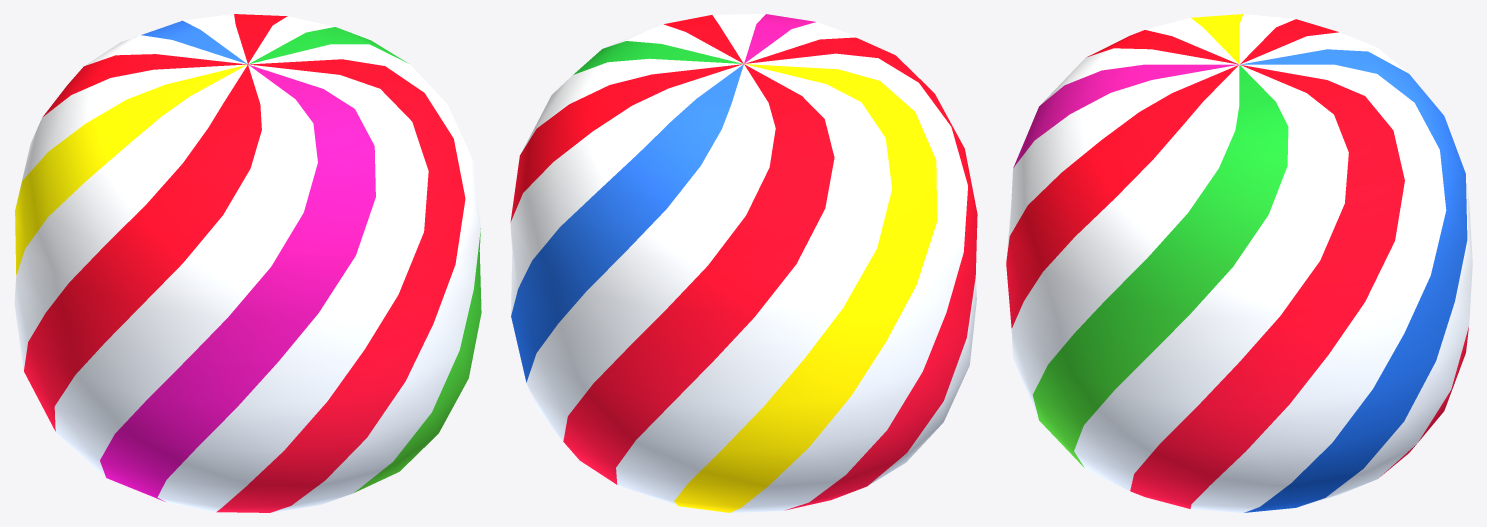
File: Lollipop_10.glb
3 renders of one model, left to right at view 1: azimuth 30°, elevation 25°; view 2: azimuth 150°, elevation 25°; view 3: azimuth 270°, elevation 25°, orthographic.
Parts seen in each view (by area): view 1: Lollipop_10; view 2: Lollipop_10; view 3: Lollipop_10.
Part boxes in pixels (bbox=[...]): Lollipop_10: bbox=[14, 14, 481, 512]; Lollipop_10: bbox=[510, 14, 977, 512]; Lollipop_10: bbox=[1006, 14, 1472, 512].
Bounding box in the file's own units: 1.76 × 1.66 × 1.76.
Materials: 1 (1 with a texture image).
